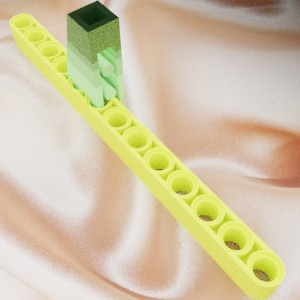lego: (9, 13, 285, 299), (66, 0, 125, 122)
